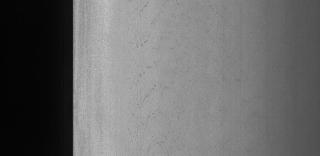silk spot: (125, 7, 183, 114)
